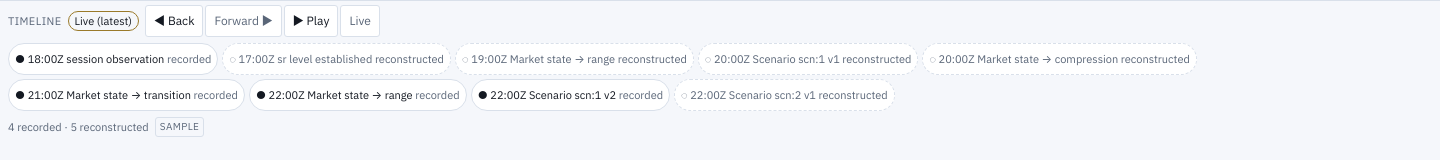
Scenario: F12 TimelineBar UI › labels each event recorded/reconstructed in text + glyph; marked sample; no future entries
The image size is (1440, 160).
Expected: the button with aria-label "— recorded" shows "●", x1=8 y1=43 x2=218 y2=75
Expected: the button with aria-label "— reconstructed" shows "◌", x1=222 y1=43 x2=451 y2=75
Click the button with aria-label "Step timeline back" at (174, 21), box x1=145 y1=5 x2=203 y2=37
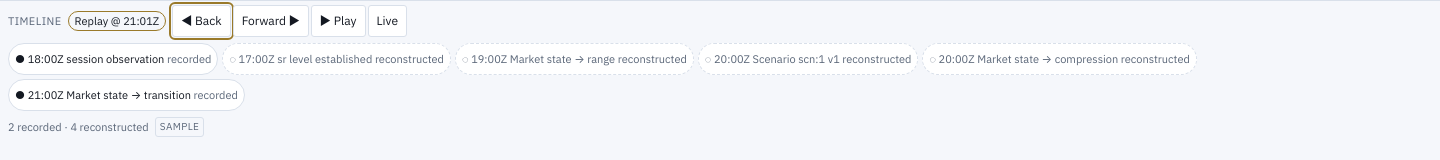
Now the text named "Replay position" shows "Replay @", box x1=75 y1=14 x2=159 y2=28
Click the button with aria-label "Back to live" at (387, 21), box x1=368 y1=5 x2=407 y2=37
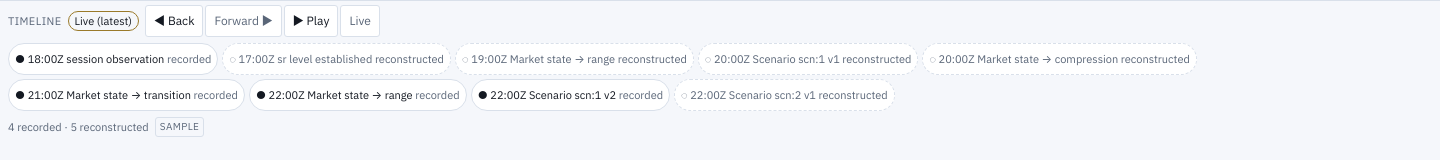
Now the text named "Replay position" shows "Live", box x1=75 y1=14 x2=132 y2=28
